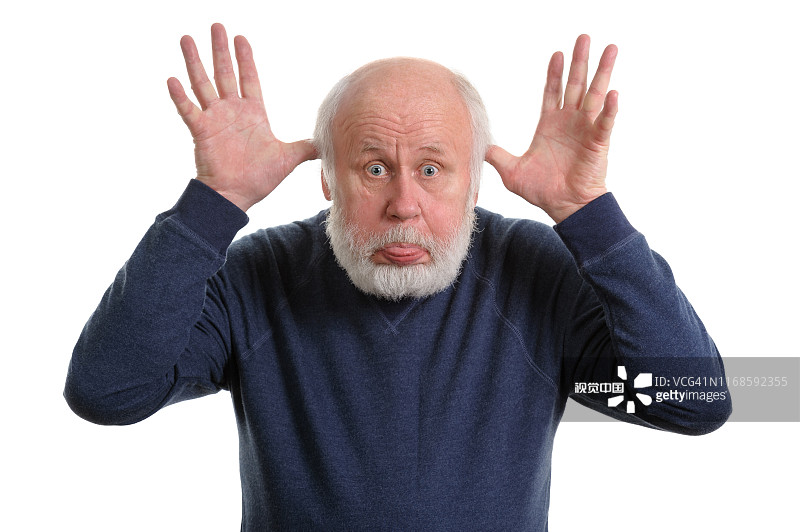no-phone: (150, 6, 326, 209), (478, 20, 642, 219)
